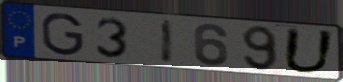3: (94, 16, 130, 59)
6: (191, 22, 230, 67)
9: (239, 24, 282, 72)
G: (39, 11, 86, 57)
I: (159, 18, 175, 66)
U: (281, 26, 338, 75)
